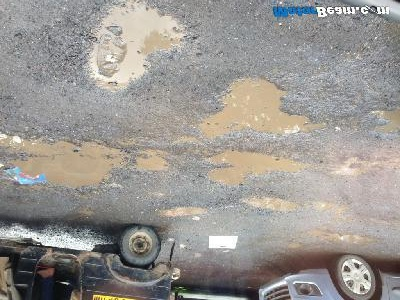pothole: (76, 0, 189, 99), (0, 129, 130, 196), (192, 73, 311, 145), (201, 150, 310, 190), (243, 195, 301, 217), (131, 149, 173, 177), (366, 104, 399, 137), (158, 203, 210, 220)
